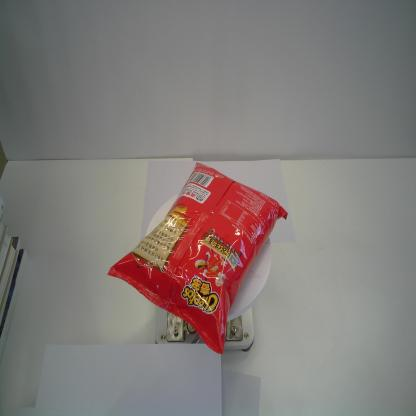Puffed Food: (104, 160, 290, 356)
